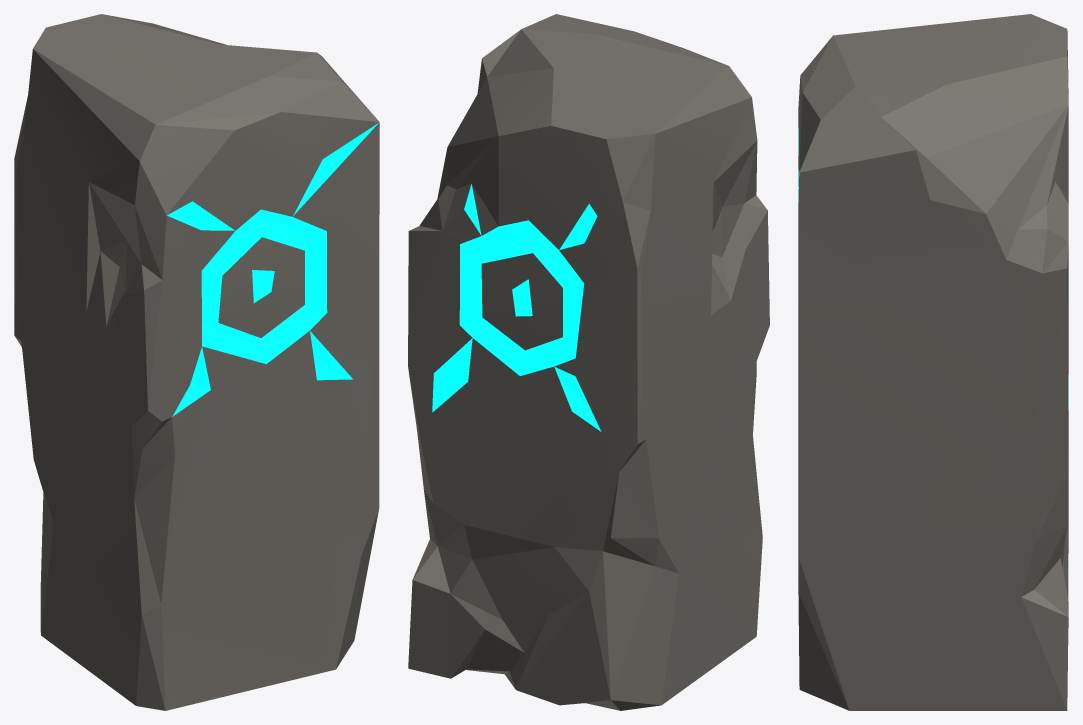
Rendered from BigMagicStone2.FBX.
3 views of the same model, side by side, from view 1: azimuth 30°, elevation 25°; view 2: azimuth 150°, elevation 25°; view 3: azimuth 270°, elevation 25° (orthographic).
Parts seen in each view (by area): view 1: Obj3d66-1649282-5-468; view 2: Obj3d66-1649282-5-468; view 3: Obj3d66-1649282-5-468.
Part boxes in pixels (left/top/right/bottom): Obj3d66-1649282-5-468: left=14, top=14, right=379, bottom=710; Obj3d66-1649282-5-468: left=408, top=14, right=769, bottom=710; Obj3d66-1649282-5-468: left=798, top=14, right=1068, bottom=710.
Size of the model in its own units: 1000 by 2382 by 1000.
1 material, 1 textured.
